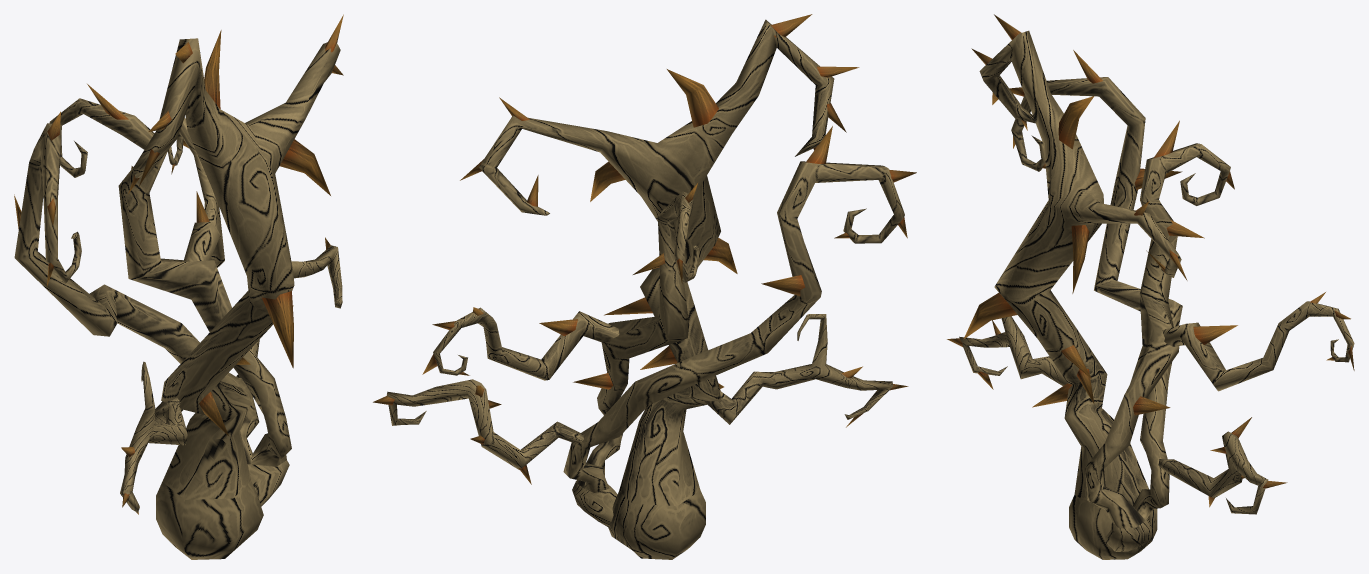
File: tree2.fbx
3 renders of one model, left to right at view 1: azimuth 30°, elevation 25°; view 2: azimuth 150°, elevation 25°; view 3: azimuth 270°, elevation 25°, orthographic. The views are drawn at different scales.
Visible parts, largest first — view 1: Object_20; view 2: Object_20; view 3: Object_20.
Boxes of the visible parts, x1,y1,x2,y2 form: Object_20: [14, 14, 343, 559]; Object_20: [373, 14, 916, 559]; Object_20: [947, 14, 1354, 559].
Bounding box in the file's own units: 70.79 × 87.73 × 65.82.
1 material, 1 textured.
